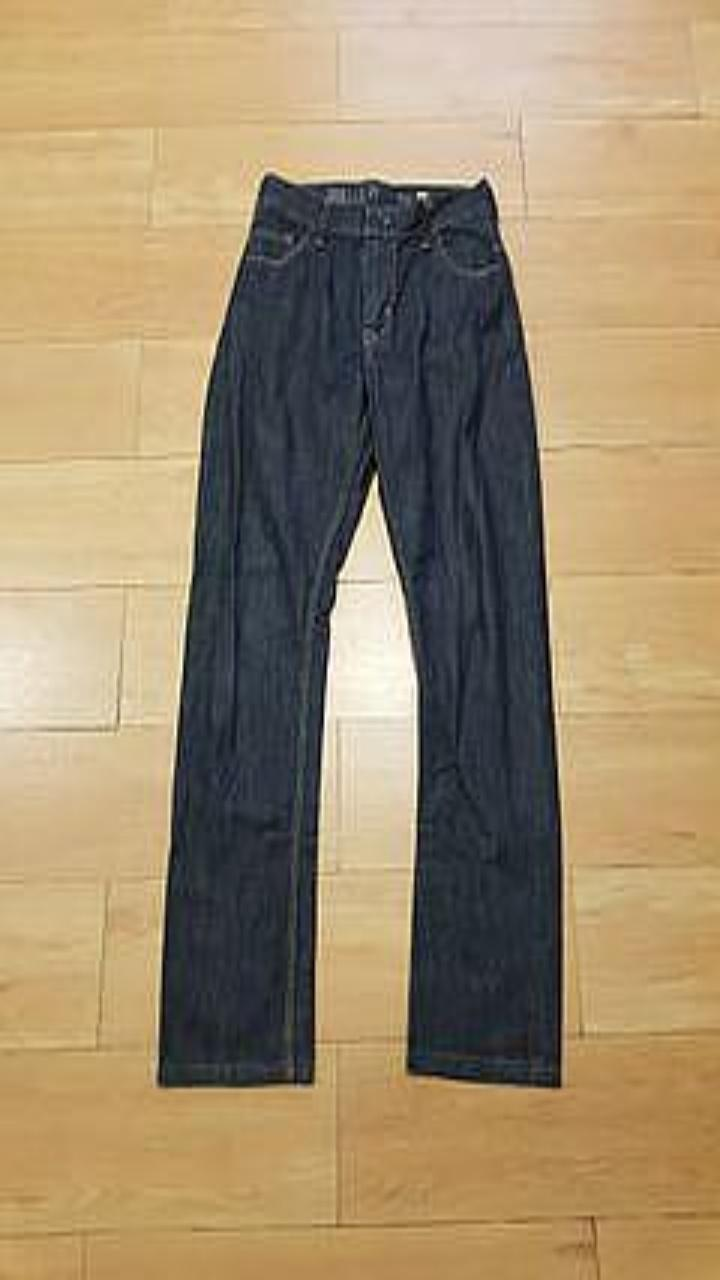Jeans: (157, 172, 562, 1085)
